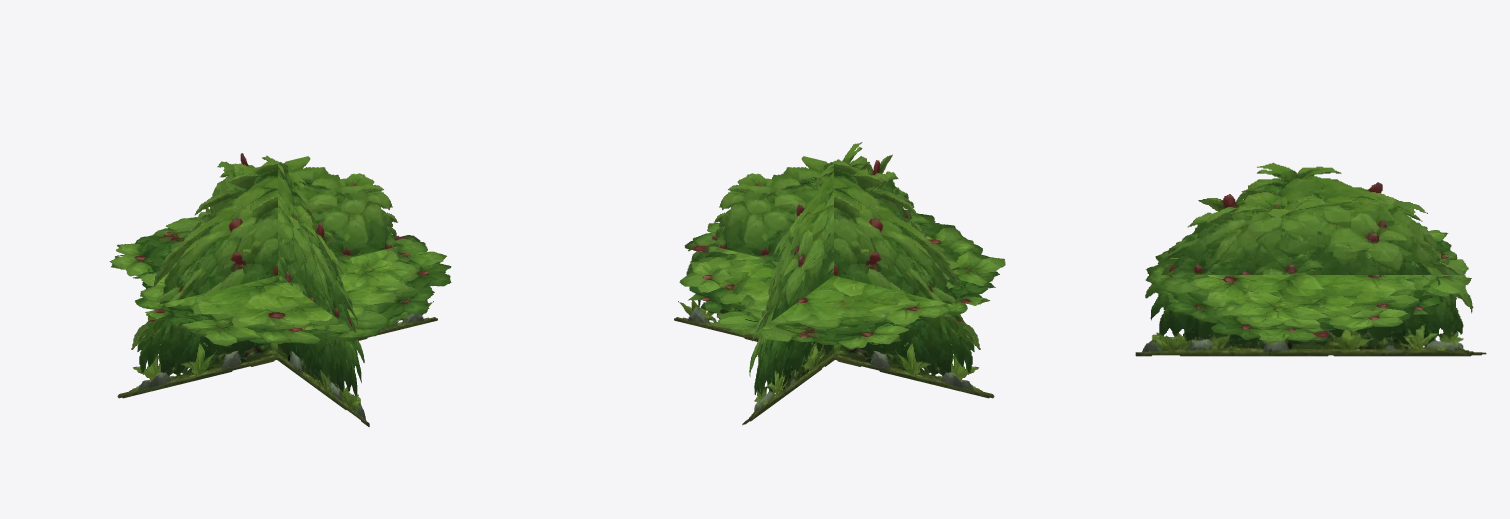
File: bush-emerald-berry.glb
The picture shows the model from 3 angles, left to right: view 1: azimuth 30°, elevation 25°; view 2: azimuth 150°, elevation 25°; view 3: azimuth 270°, elevation 25°; orthographic projection. The views are drawn at different scales.
Size of the model in its own units: 1.97 by 1.97 by 1.97.
1 material, 1 textured.
